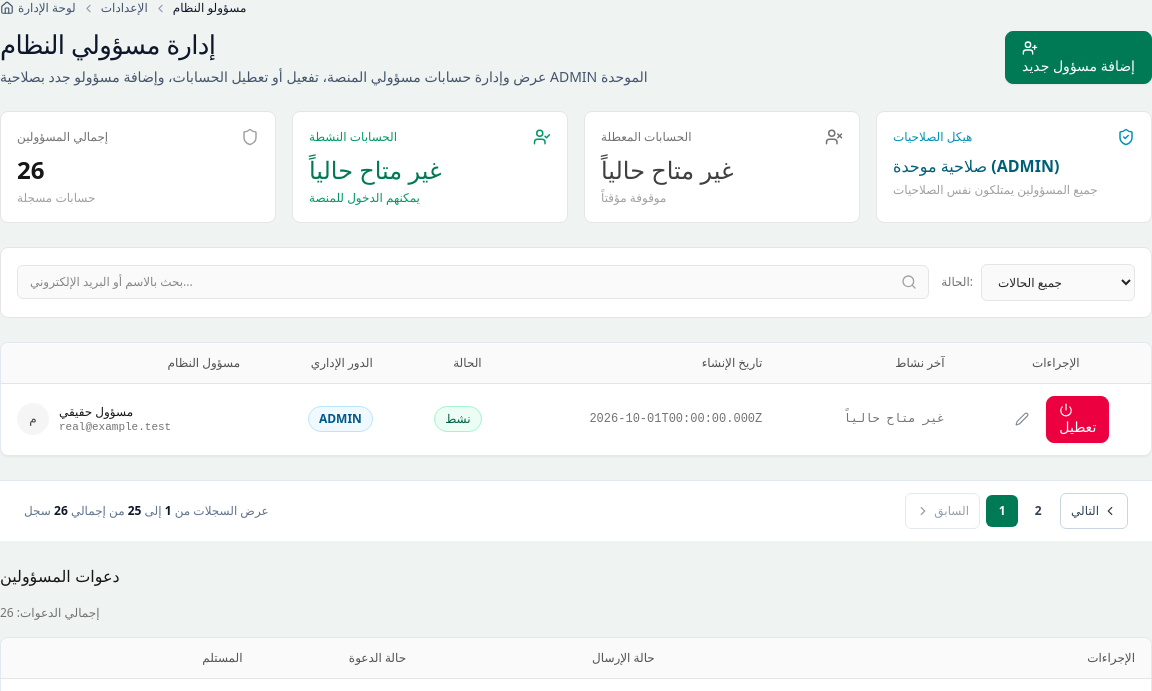
Scenario: requires entered reason and explicit review before issuing a pending invitation
Check: the text "مسؤول حقيقي" is shown, box [59,404,133,420]
Click the button "إضافة مسؤول جديد" at [1079, 57], box [1005,31,1151,84]
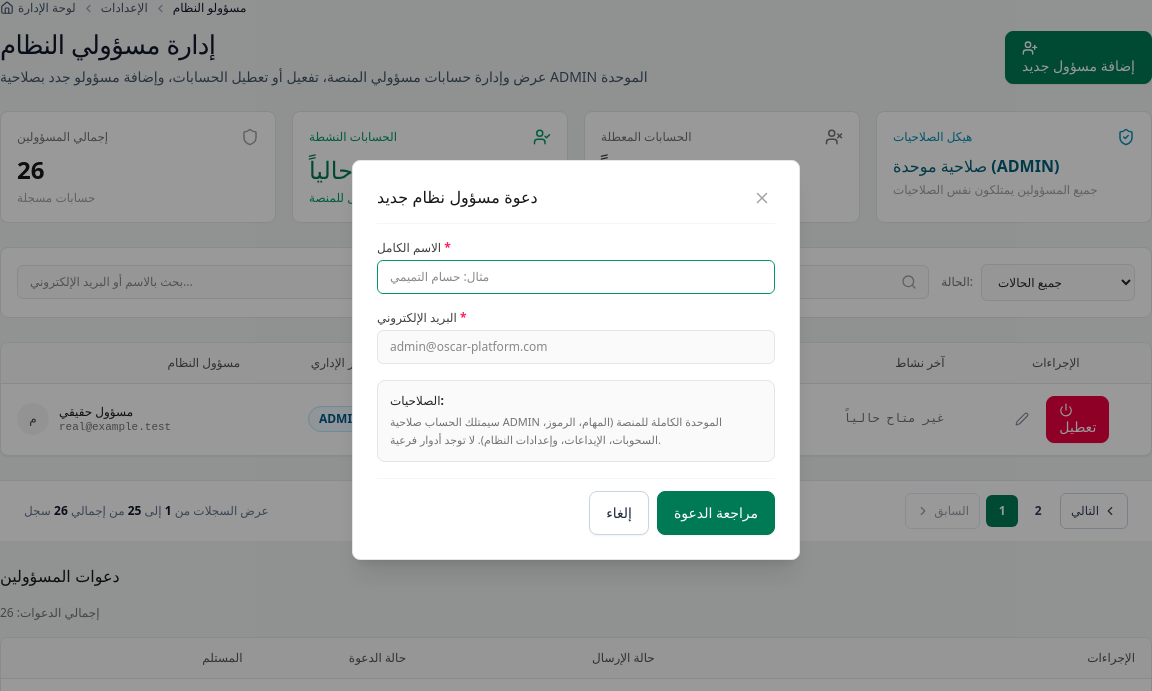
Type "Invited" into the field labelled "الاسم الكامل *" at [576, 277], box [377,260,775,294]
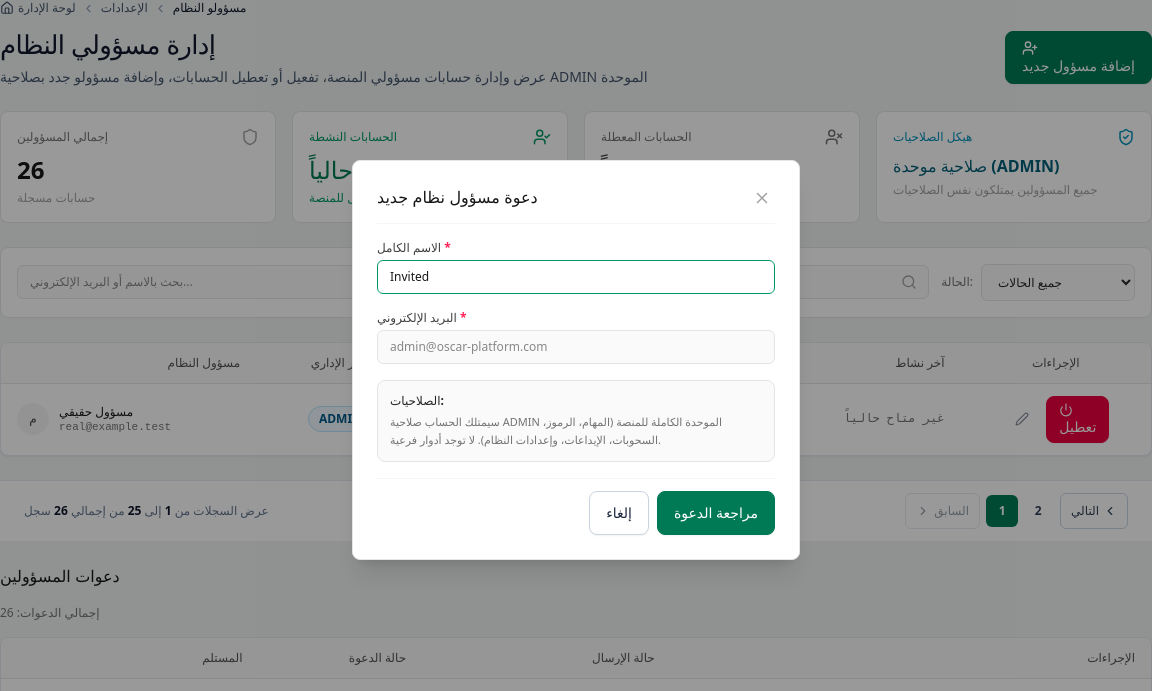
Type "invited@example.test" into the field labelled "البريد الإلكتروني *" at [576, 347], box [377,330,775,364]
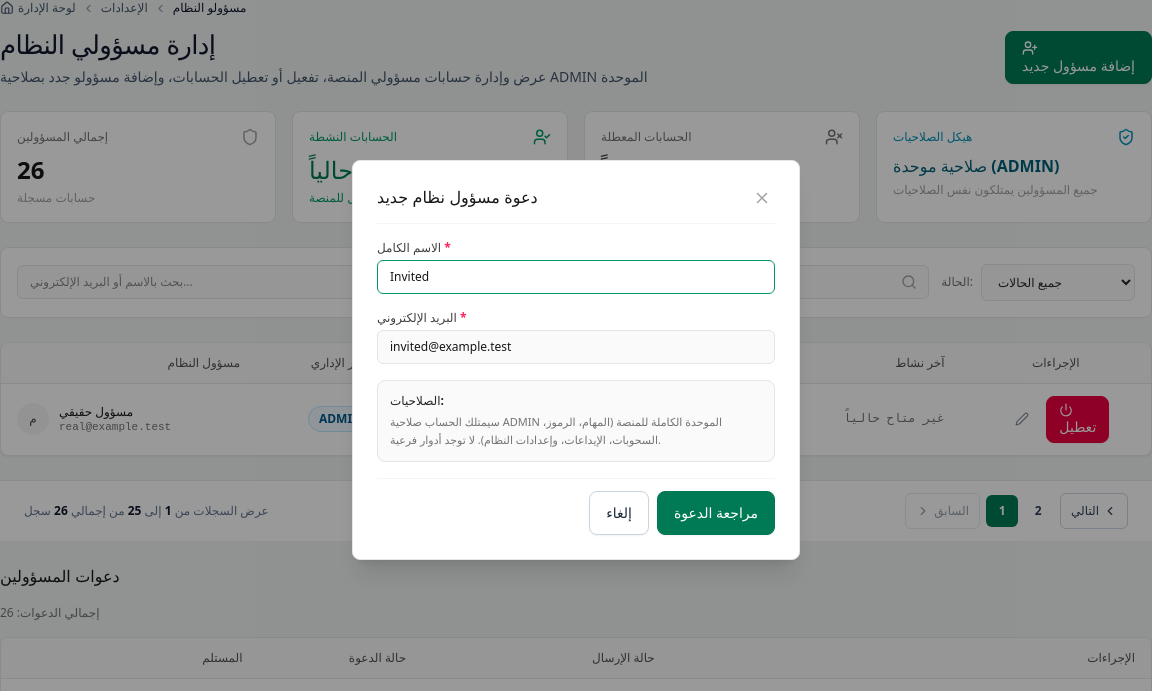
Submit the form named "مراجعة الدعوة", box [377,240,775,535]
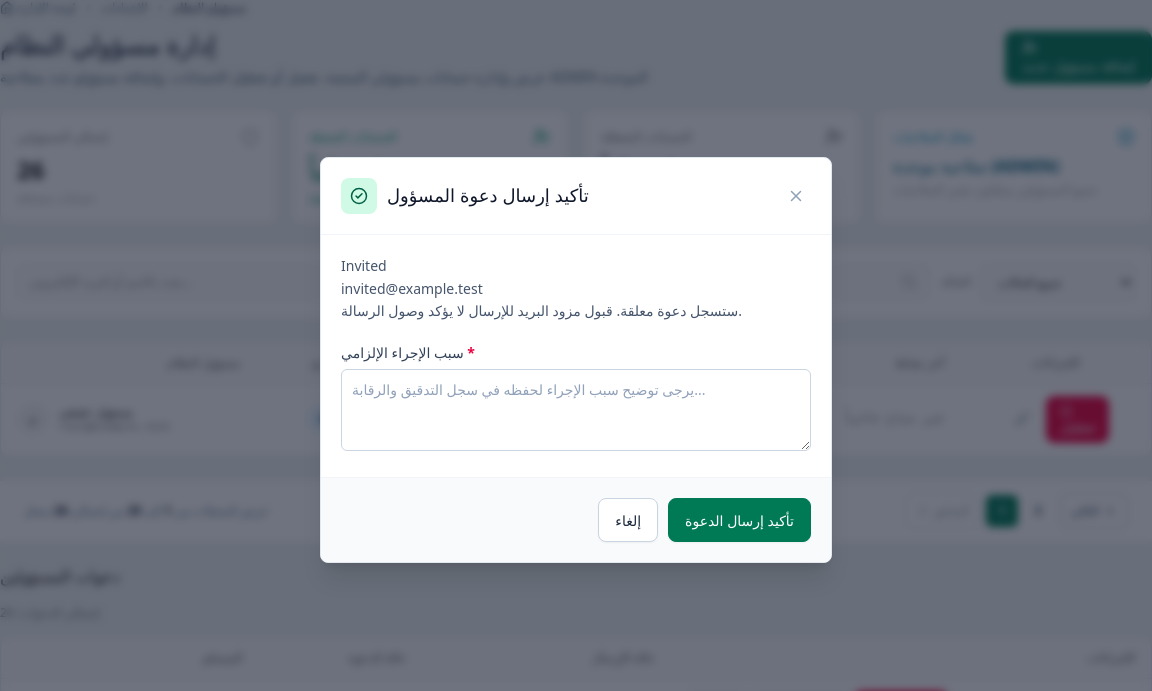
Type "حاجة العمل" into the text box at [576, 410], box [341,369,811,451]
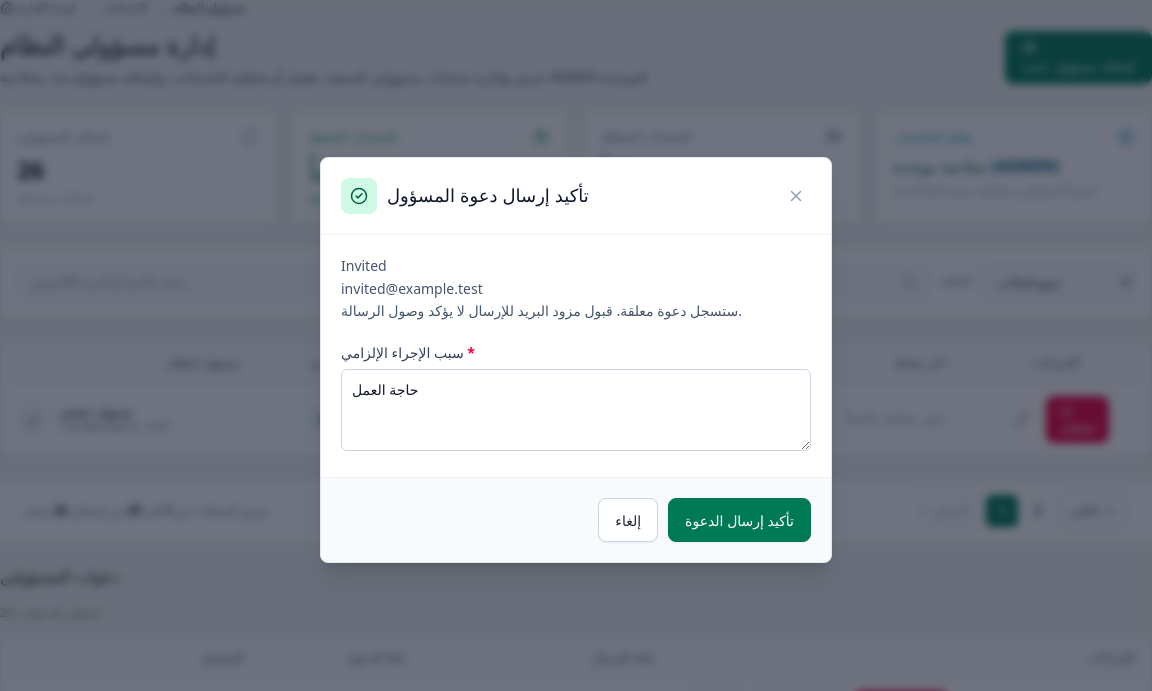
Click the button "تأكيد إرسال الدعوة" at [740, 520], box [668,498,811,542]
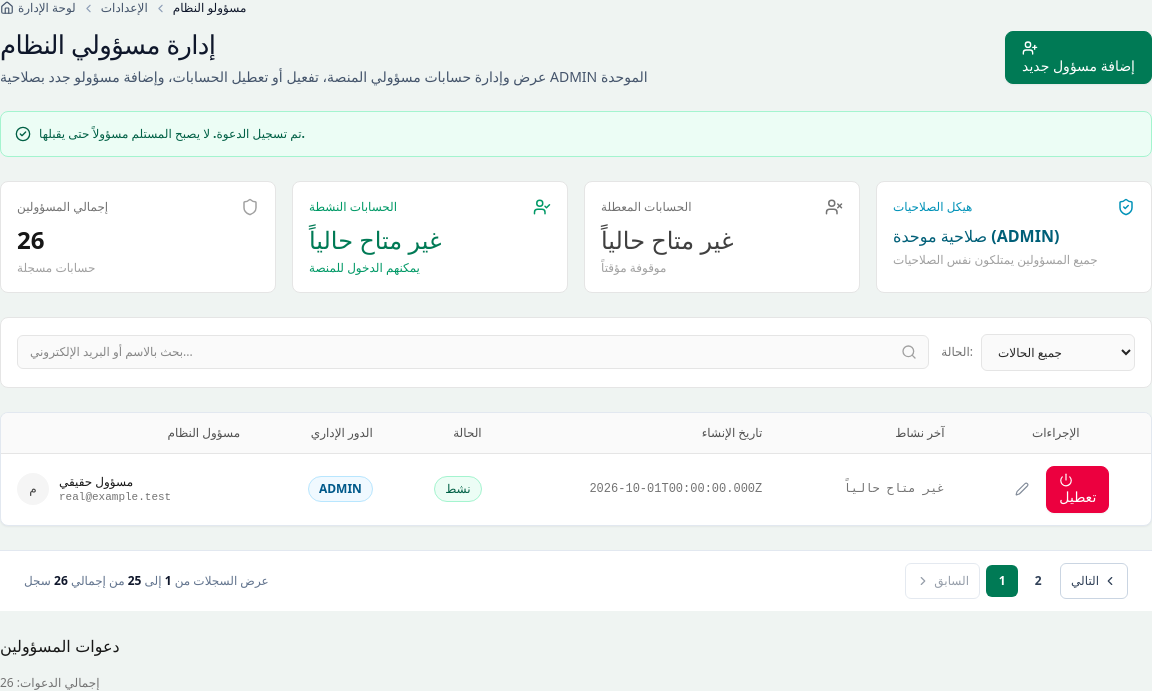
Check: the text "تم تسجيل الدعوة. لا يصبح المستلم مسؤولاً حتى يقبلها." is shown, box [39,126,305,142]
